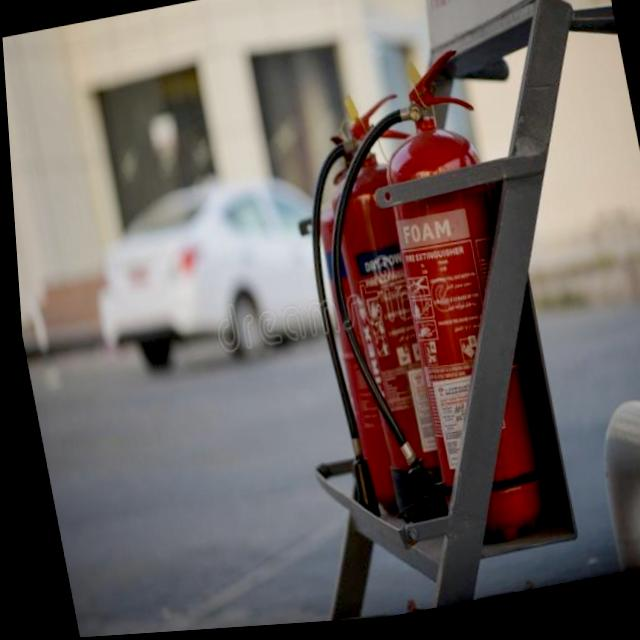FireExtinguisher: (288, 45, 552, 580), (291, 84, 482, 543)
